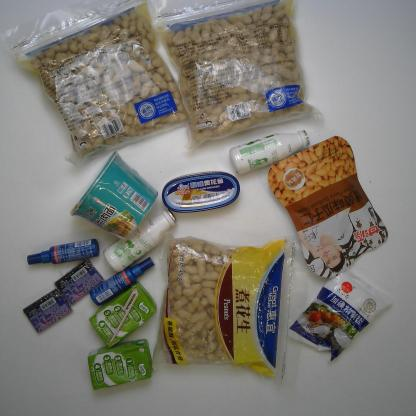Canned Food: (160, 170, 242, 214)
Dried Food: (6, 0, 188, 162), (150, 0, 326, 154), (150, 230, 309, 399)
Dried Fruit: (266, 136, 390, 283)
Gum: (53, 258, 106, 308), (21, 287, 73, 334)
Instant Noodles: (70, 150, 159, 242)
Milk: (99, 210, 177, 273), (87, 281, 159, 349), (228, 128, 310, 176), (86, 340, 154, 391)
Personal Hygiene: (89, 255, 157, 306), (26, 241, 101, 266)
Seasoner: (286, 269, 394, 364)
